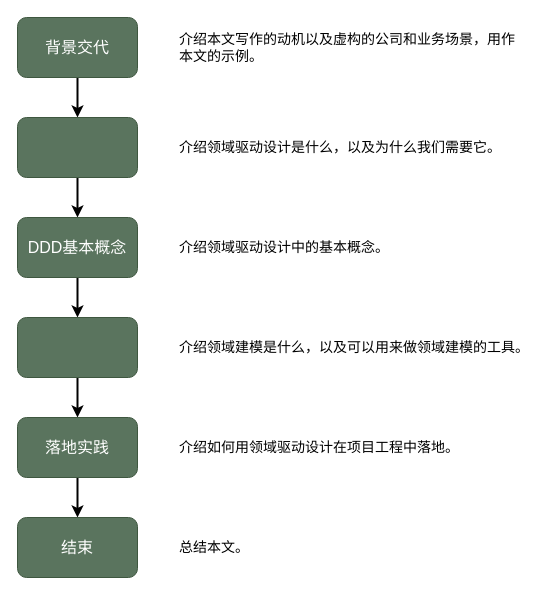
The diagram is 555 pixels wide and 595 high, and some of its shapes have lost their labels. The centre of each missing label's shape, as x and y in pixels:
"DDD是什么" goes at point (77, 147).
"领域建模" goes at point (77, 347).
